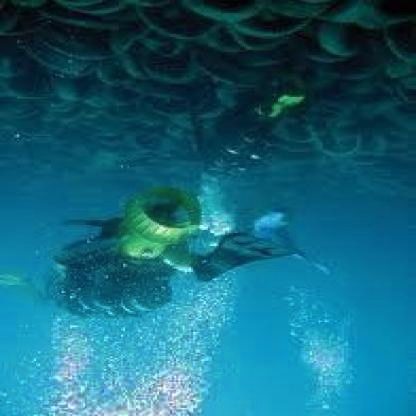tire: (223, 2, 361, 90), (91, 3, 227, 88), (53, 52, 140, 129), (314, 113, 401, 176)
